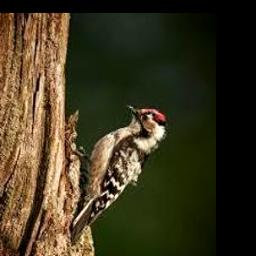Woodpecker: (72, 103, 168, 243)
